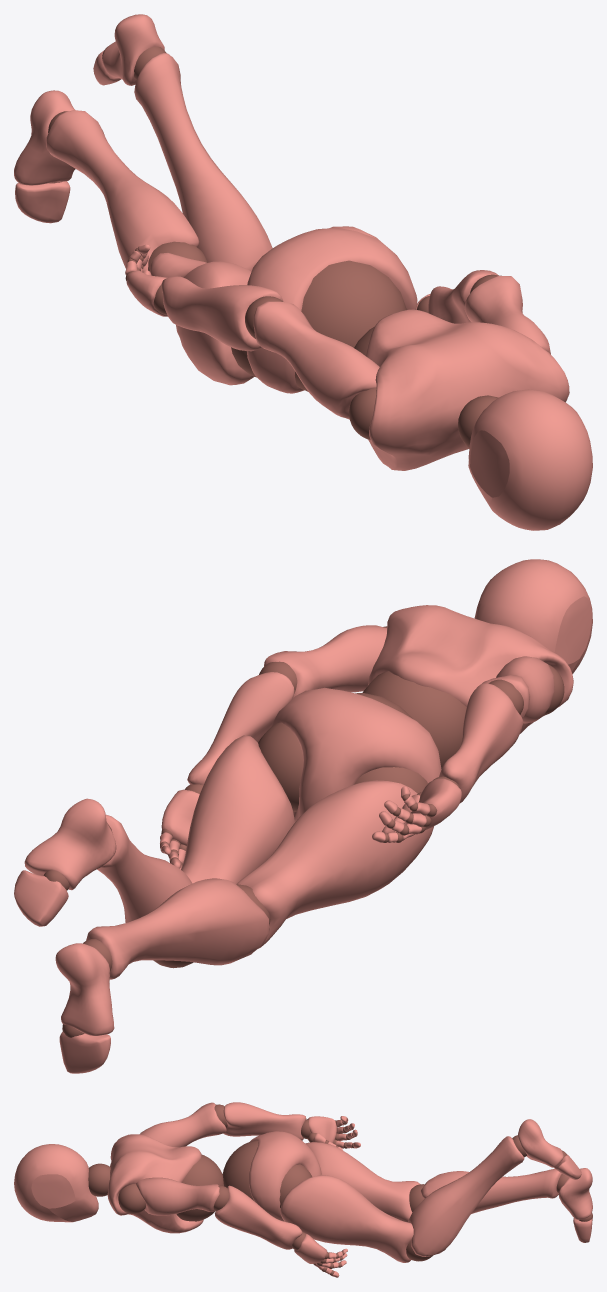
File: xbot.glb
3 renders of one model, top to bottom at view 1: azimuth 30°, elevation 25°; view 2: azimuth 150°, elevation 25°; view 3: azimuth 270°, elevation 25°, orthographic. The views are drawn at different scales.
Visible parts, largest first — view 1: Beta_Joints; view 2: Beta_Joints; view 3: Beta_Joints.
Boxes of the visible parts, x1,y1,x2,y2 form: Beta_Joints: [14, 14, 592, 530]; Beta_Joints: [14, 559, 592, 1073]; Beta_Joints: [14, 1102, 592, 1277].
Size of the model in its own units: 0.6001 by 0.4717 by 1.79.
